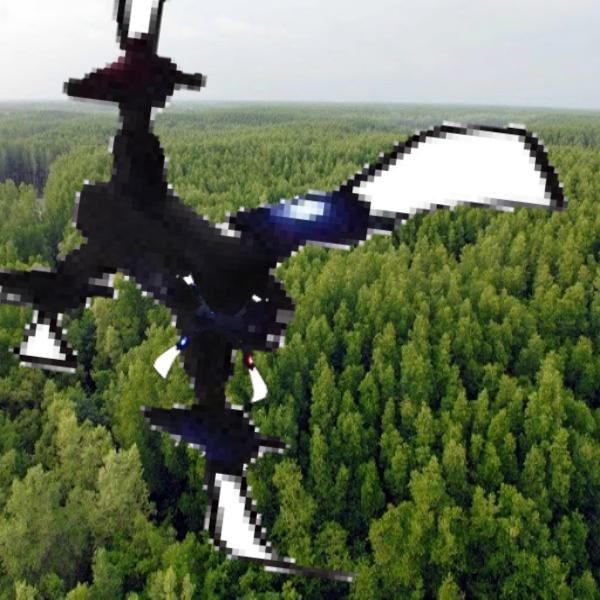drone: (151, 272, 285, 406)
